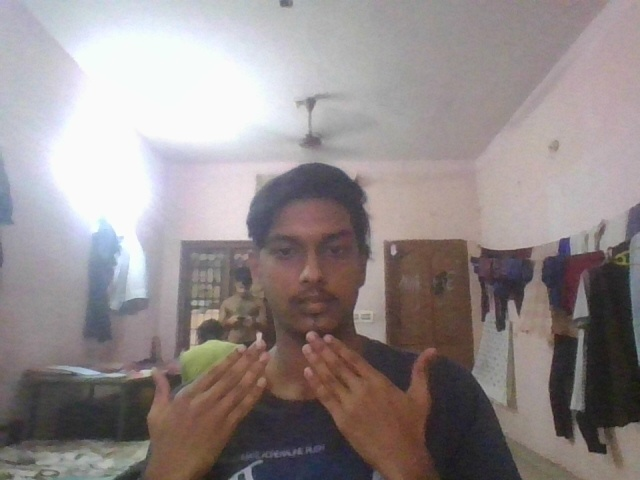thankyou: (145, 329, 437, 476)
